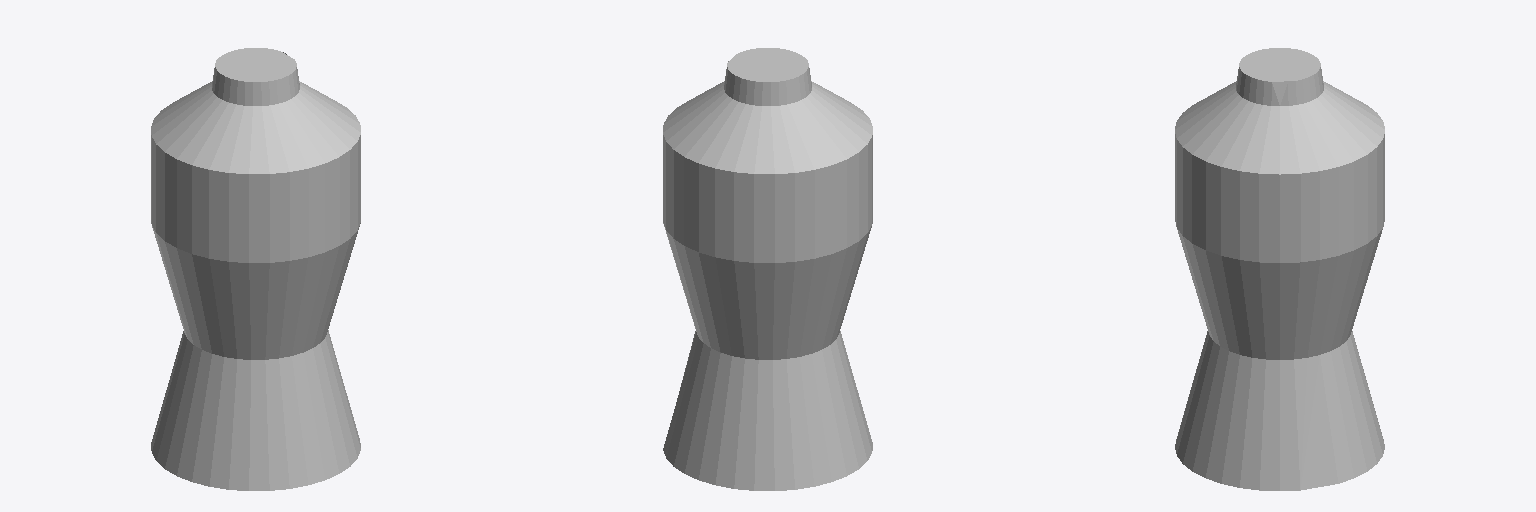
File: Cola.obj
3 views of the same model, side by side, from view 1: azimuth 30°, elevation 25°; view 2: azimuth 150°, elevation 25°; view 3: azimuth 270°, elevation 25° (orthographic).
Parts seen in each view (by area): view 1: Cylinder; view 2: Cylinder; view 3: Cylinder.
Boxes of the visible parts, x1,y1,x2,y2 form: Cylinder: [151, 48, 360, 490]; Cylinder: [663, 48, 872, 490]; Cylinder: [1175, 48, 1384, 490].
Bounding box in the file's own units: 2 × 4 × 2.